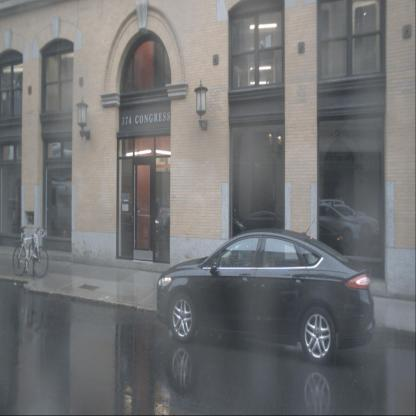vehicle-car: (154, 224, 376, 370), (304, 196, 381, 250), (298, 201, 360, 247)
